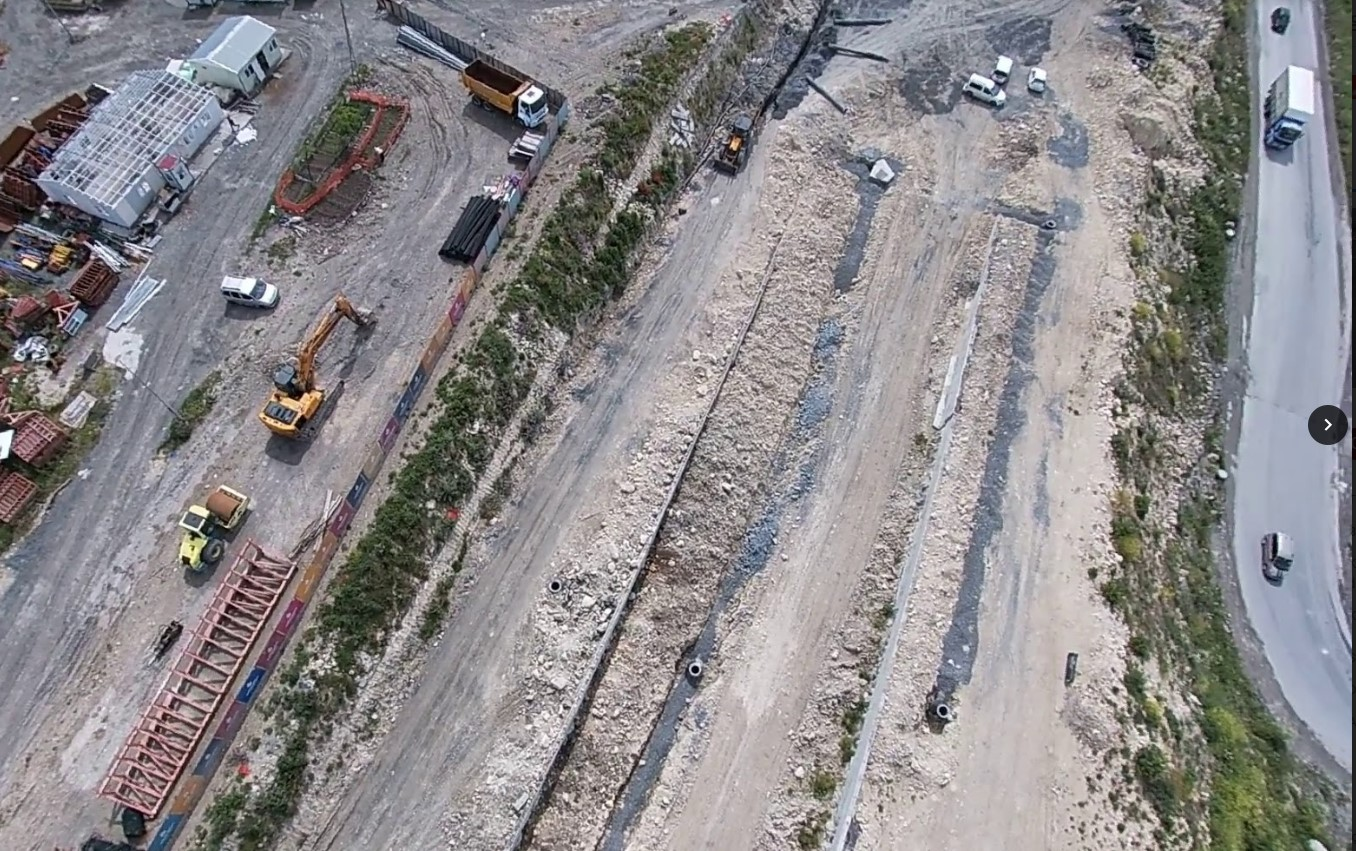araba: (223, 272, 274, 307), (1264, 531, 1295, 588), (967, 71, 1008, 107), (1267, 6, 1291, 36), (995, 51, 1013, 85), (1029, 66, 1046, 94)
ismakinasi: (263, 298, 375, 442)
kamyon: (461, 59, 548, 130), (1265, 63, 1315, 154)
traktor: (173, 481, 250, 571), (718, 110, 757, 169)
